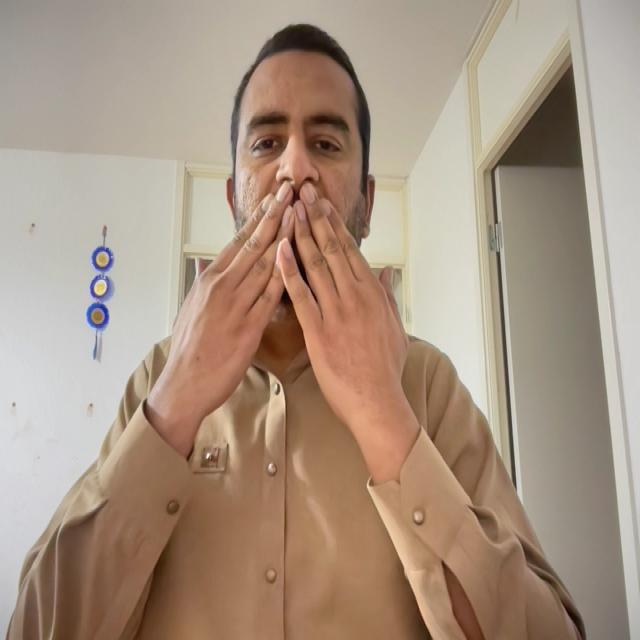Thanks: (166, 171, 428, 462)
